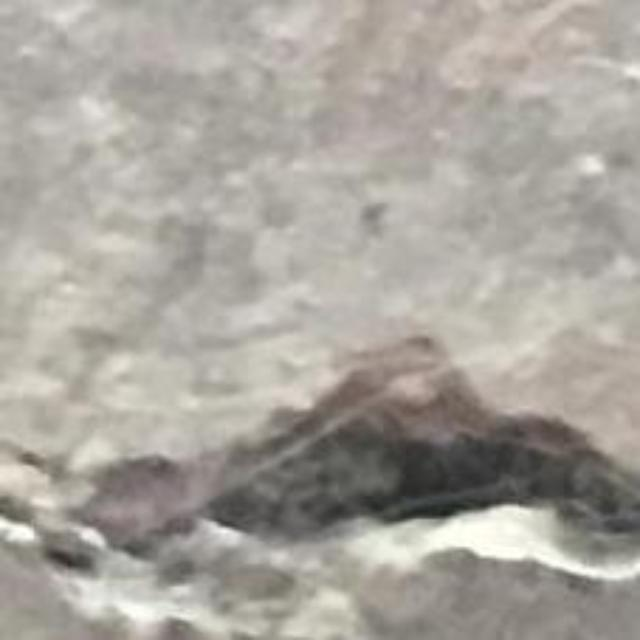crack: (0, 336, 639, 572)
